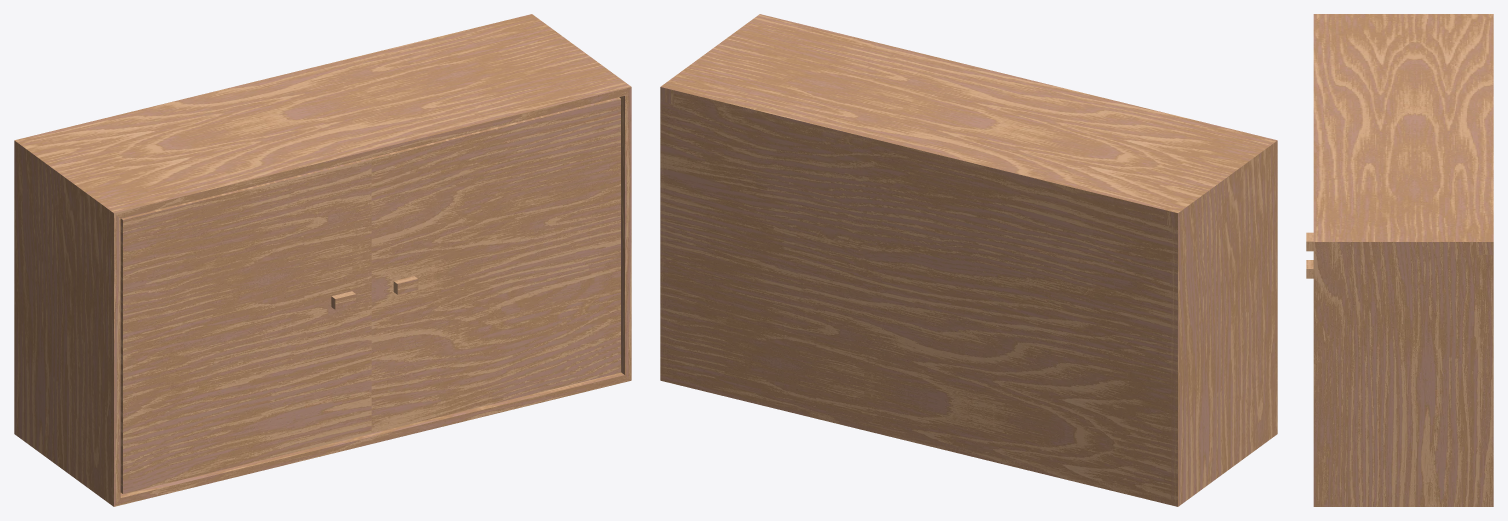
The model's file is Hylly_008-transformed.glb.
3 renders of one model, left to right at view 1: azimuth 30°, elevation 25°; view 2: azimuth 150°, elevation 25°; view 3: azimuth 270°, elevation 25°, orthographic. The views are drawn at different scales.
Visible parts, largest first — view 1: runkoObj, Left_door, Right_door; view 2: runkoObj; view 3: runkoObj.
Part boxes in pixels (x1=…): runkoObj: x1=14, y1=14, x2=631, y2=506; Left_door: x1=120, y1=158, x2=371, y2=493; Right_door: x1=370, y1=97, x2=620, y2=433; runkoObj: x1=660, y1=14, x2=1277, y2=506; runkoObj: x1=1306, y1=14, x2=1493, y2=506.
Size of the model in its own units: 0.75 by 0.4065 by 0.26.
1 material, 1 textured.
